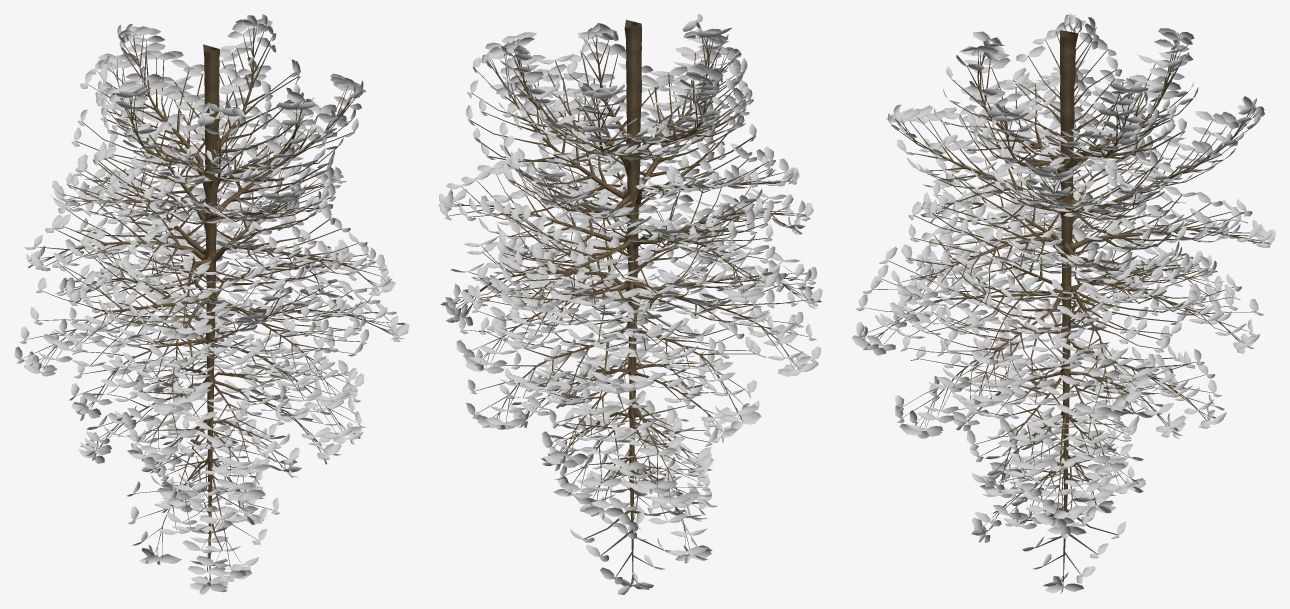
Rendered from BIO_VEG_BIG_Tree_03A.fbx.
The picture shows the model from 3 angles, left to right: view 1: azimuth 30°, elevation 25°; view 2: azimuth 150°, elevation 25°; view 3: azimuth 270°, elevation 25°; orthographic projection. The views are drawn at different scales.
Parts seen in each view (by area): view 1: BIO_VEG_BIG_Tree_03A; view 2: BIO_VEG_BIG_Tree_03A; view 3: BIO_VEG_BIG_Tree_03A.
Part boxes in pixels (x1=…): BIO_VEG_BIG_Tree_03A: x1=14, y1=14, x2=409, y2=594; BIO_VEG_BIG_Tree_03A: x1=438, y1=14, x2=822, y2=594; BIO_VEG_BIG_Tree_03A: x1=851, y1=14, x2=1275, y2=593.
Bounding box in the file's own units: 1499 × 2250 × 1552.
